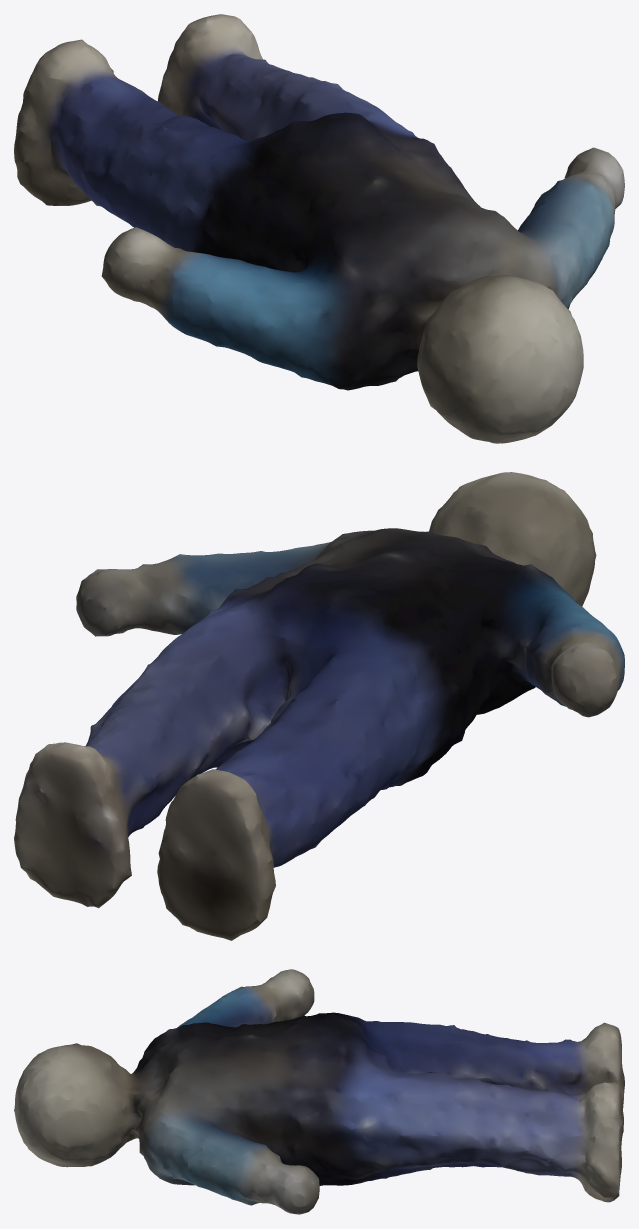
Rendered from grandfather.glb.
The picture shows the model from 3 angles, top to bottom: view 1: azimuth 30°, elevation 25°; view 2: azimuth 150°, elevation 25°; view 3: azimuth 270°, elevation 25°; orthographic projection. The views are drawn at different scales.
Bounding box in the file's own units: 0.7276 × 0.2586 × 0.9966.
